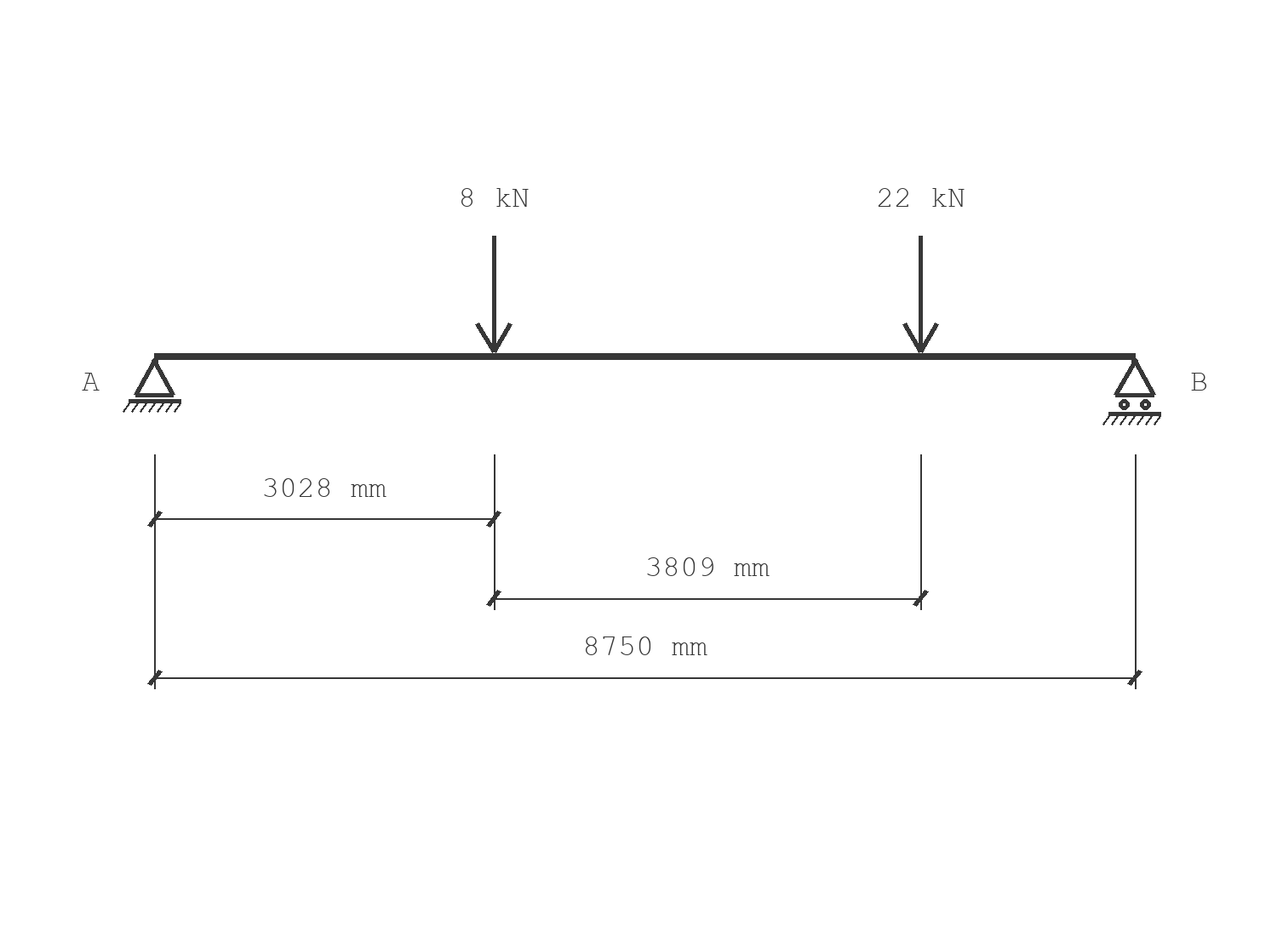pin_support: (123, 358, 181, 413)
point_load: (475, 236, 513, 353), (902, 236, 939, 353)
roller_support: (1102, 358, 1161, 425)
